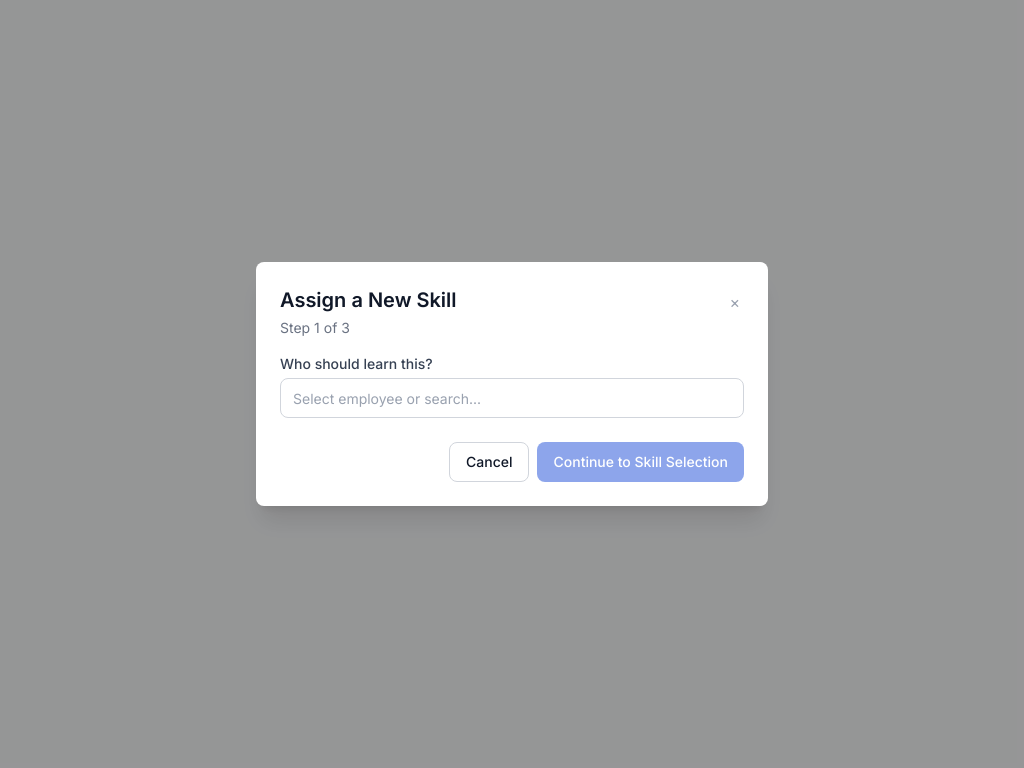
Test: AssignmentModal › loads employees on Step 1, shows role (not email) in results, and requires a selection before continuing
Expected: the text "Step 1 of 3" is shown, top-left (280, 319), bottom-right (350, 336)
Expected: the button "Continue to Skill Selection" is disabled, top-left (538, 442), bottom-right (744, 482)
Click the dropdown named "Select employee or search" at [512, 398], box top-left (280, 378), bottom-right (744, 418)
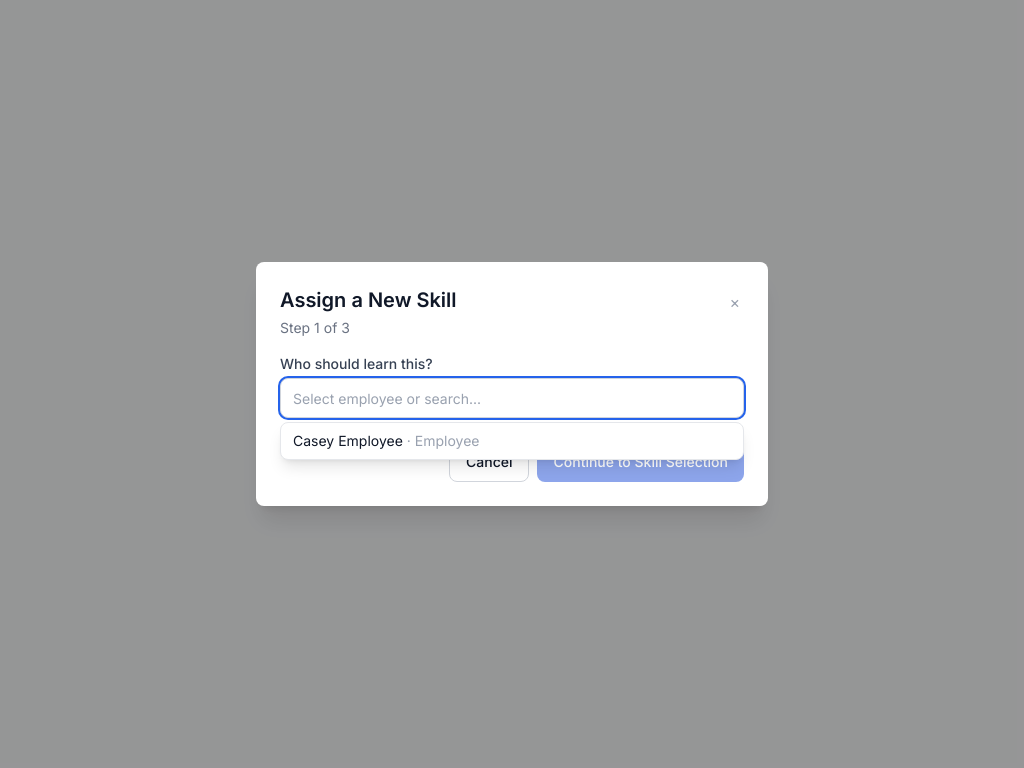
Expected: the text "· Employee" is shown, top-left (407, 432), bottom-right (480, 449)
Click the option "Casey Employee· Employee" at [386, 440], box top-left (293, 432), bottom-right (480, 449)
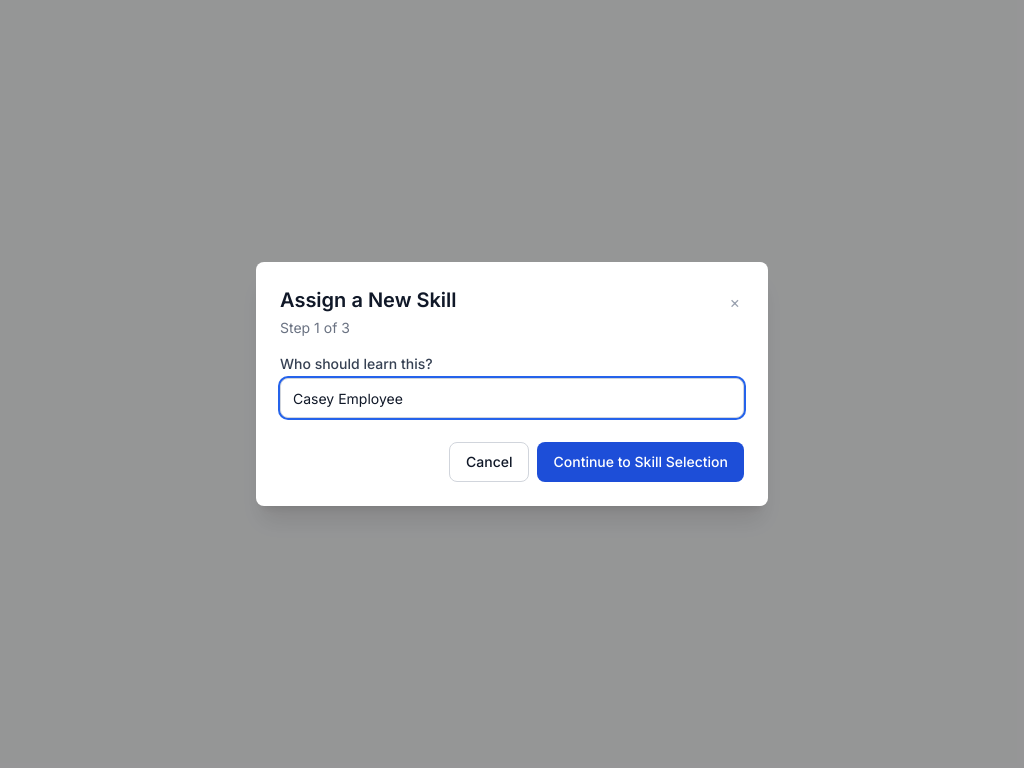
Expected: the button "Continue to Skill Selection" is enabled, top-left (538, 442), bottom-right (744, 482)
